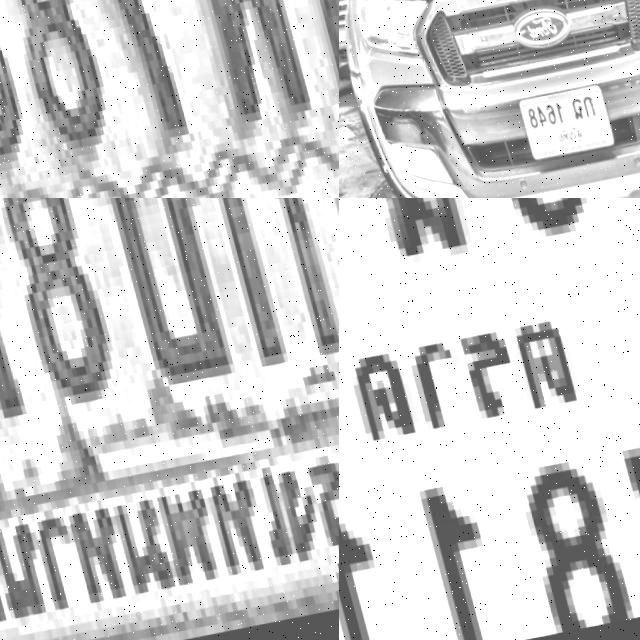license-plate: (0, 198, 339, 640), (339, 198, 640, 640), (0, 0, 339, 198), (505, 85, 605, 166)
